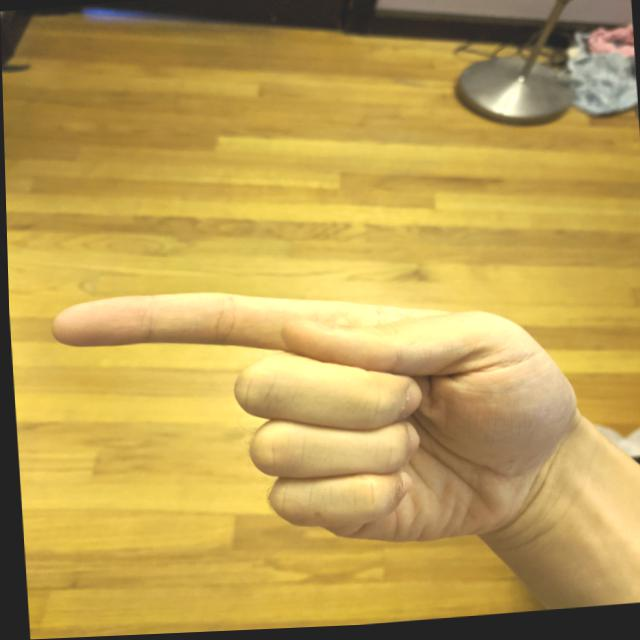G: (39, 259, 594, 576)
